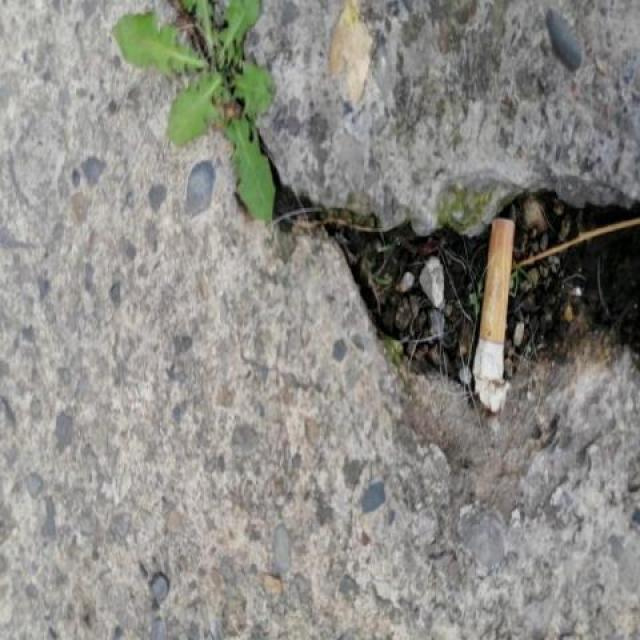non-organic waste: (470, 214, 522, 415)
